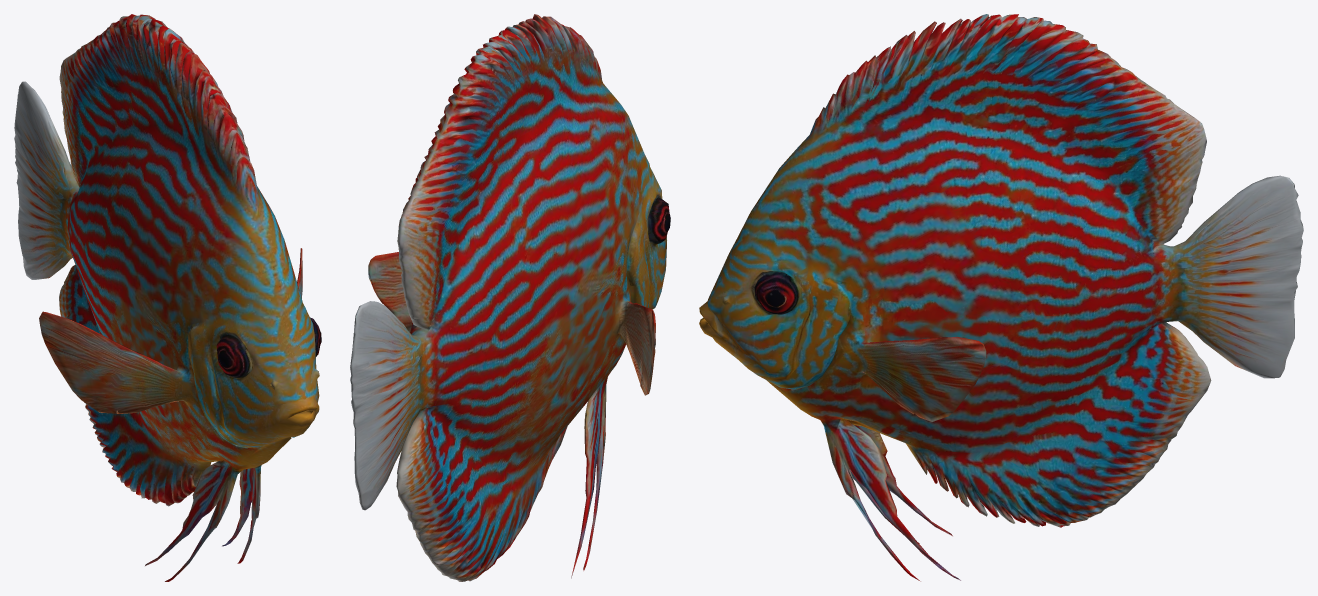
File: discus.glb
3 renders of one model, left to right at view 1: azimuth 30°, elevation 25°; view 2: azimuth 150°, elevation 25°; view 3: azimuth 270°, elevation 25°, orthographic. The views are drawn at different scales.
Parts seen in each view (by area): view 1: tripo_node_0a646168-00bf-4831-a7d2-03abbebea2ea; view 2: tripo_node_0a646168-00bf-4831-a7d2-03abbebea2ea; view 3: tripo_node_0a646168-00bf-4831-a7d2-03abbebea2ea.
Boxes of the visible parts, x1,y1,x2,y2 form: tripo_node_0a646168-00bf-4831-a7d2-03abbebea2ea: (14, 14, 321, 581); tripo_node_0a646168-00bf-4831-a7d2-03abbebea2ea: (350, 14, 670, 581); tripo_node_0a646168-00bf-4831-a7d2-03abbebea2ea: (699, 14, 1303, 581).
Size of the model in its own units: 0.5318 by 1 by 0.9991.
1 material, 1 textured.
